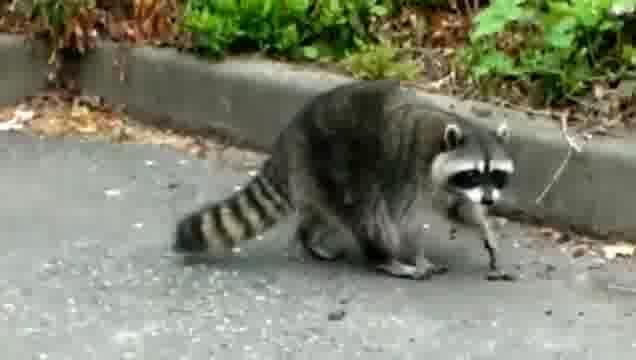raccoon: (173, 76, 515, 285)
